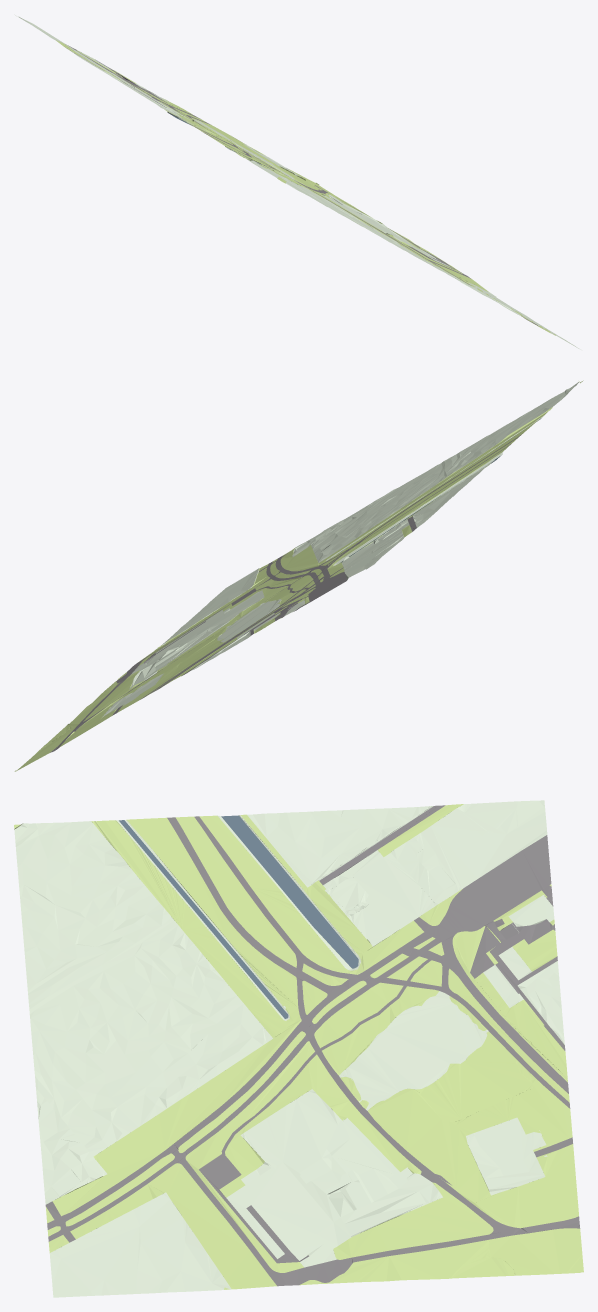
3 renders of one model, top to bottom at view 1: azimuth 30°, elevation 25°; view 2: azimuth 150°, elevation 25°; view 3: azimuth 270°, elevation 25°, orthographic. The views are drawn at different scales.
Size of the model in its own units: 218 by 156 by 268.
